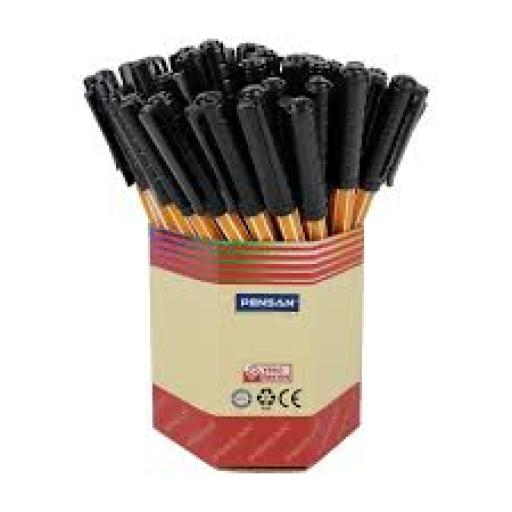tukenmez-kalem: (36, 17, 445, 251)
